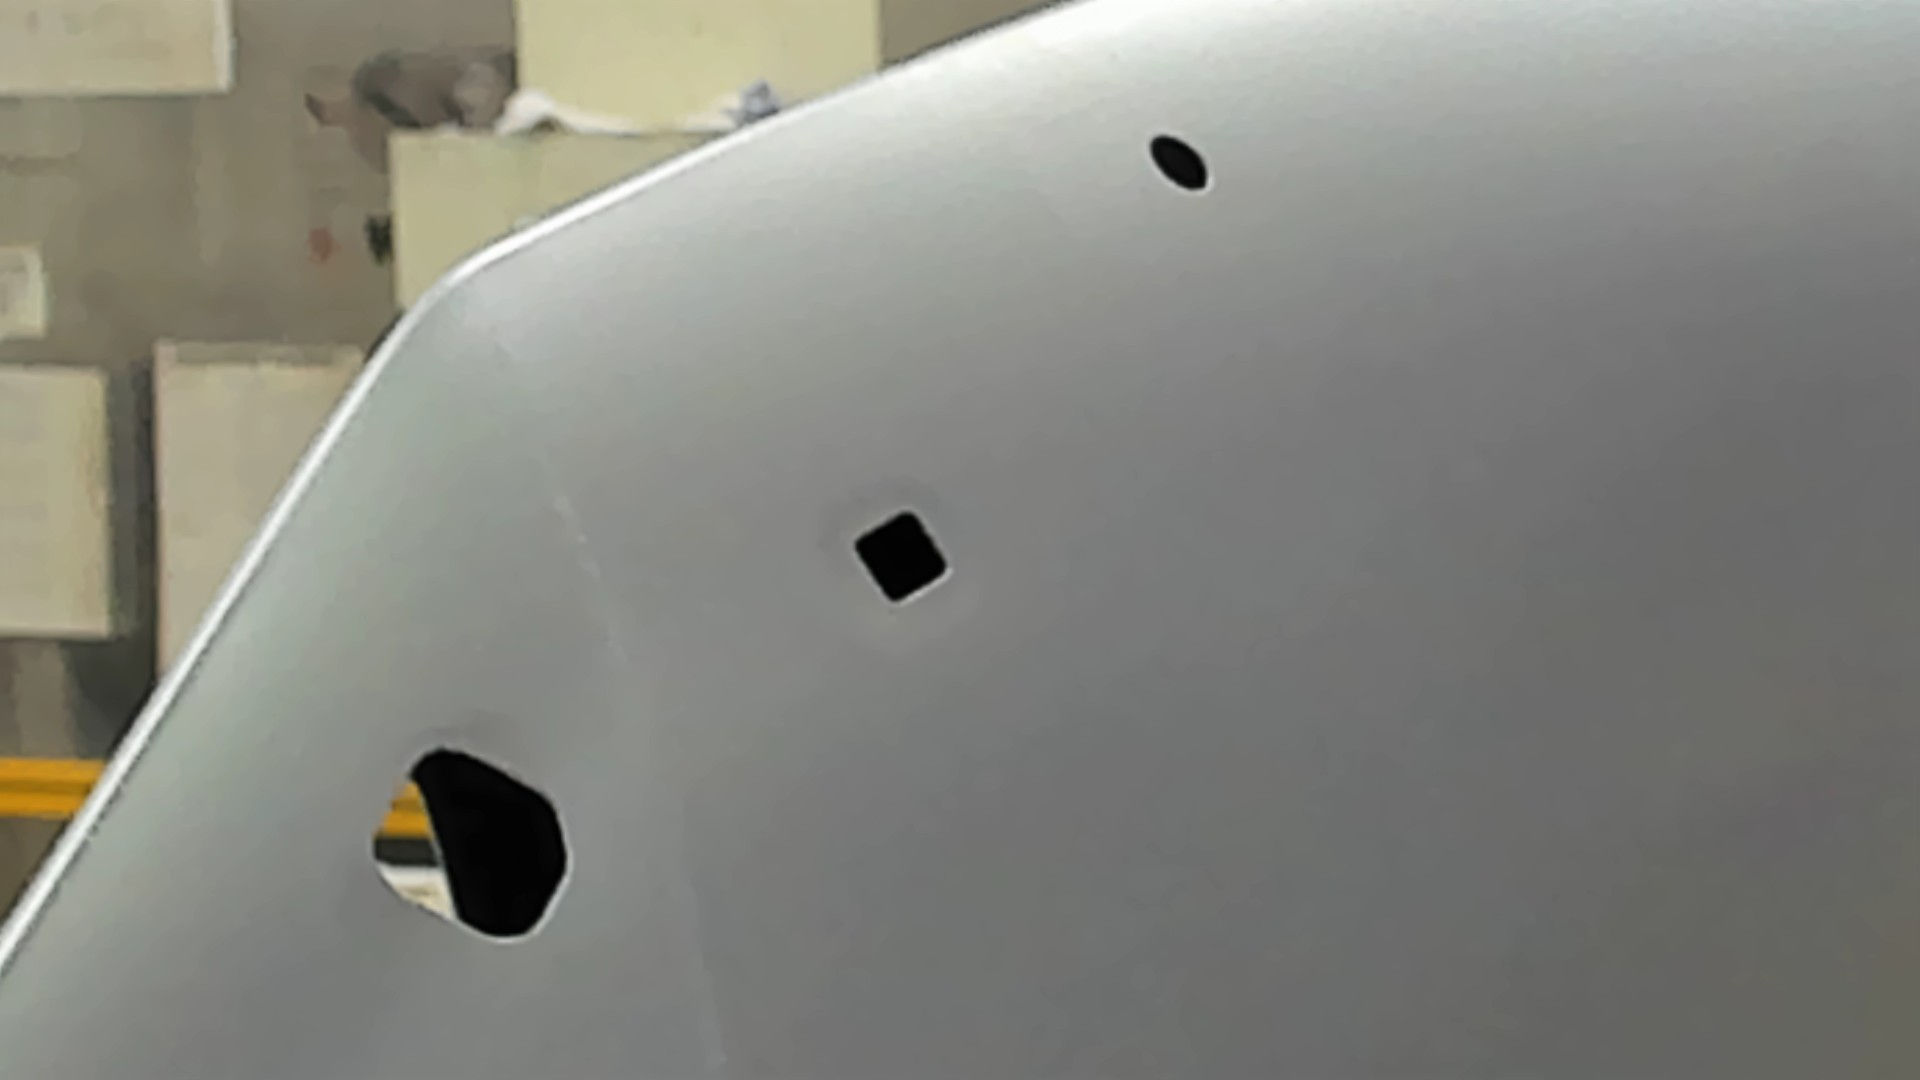chico: (1145, 132, 1213, 199)
grande: (369, 741, 574, 949)
mediano: (843, 505, 959, 609)
